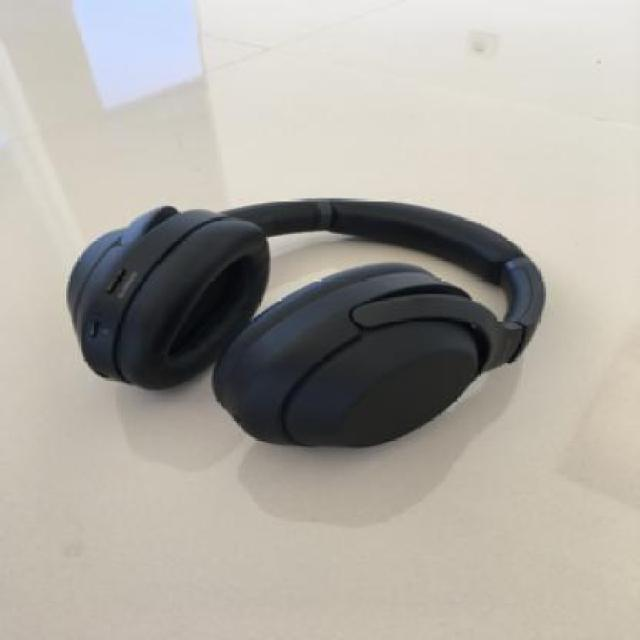earphone: (72, 142, 588, 493)
